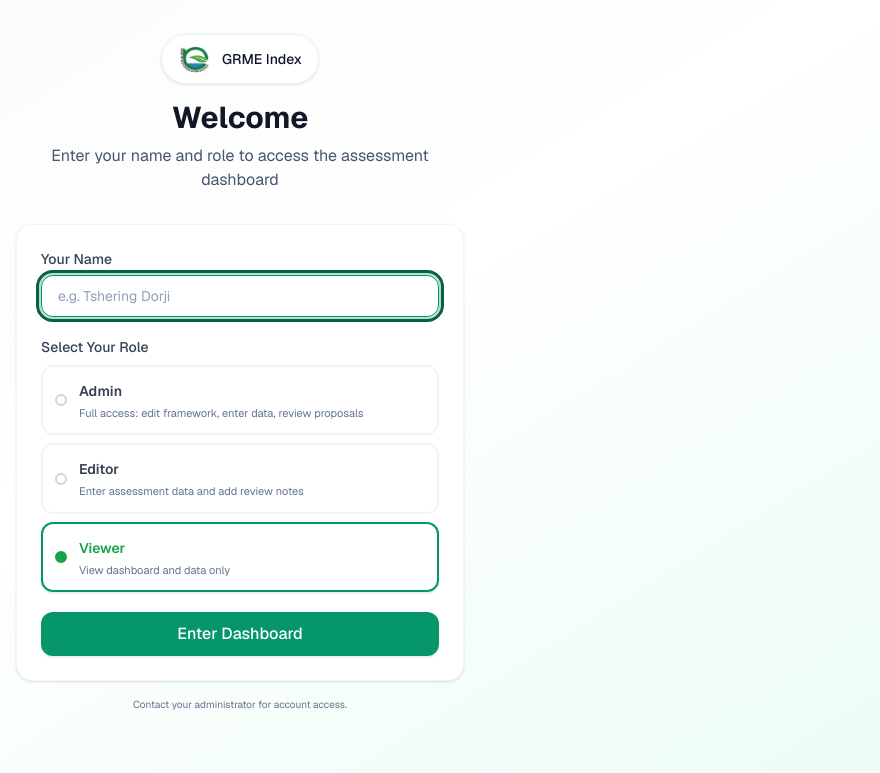
LoginScreen › shows contact-admin error when name is not in managed users
Step 1. Type "Unknown" into the field with placeholder "e.g. Tshering Dorji" → (240, 296), box [41,275,439,317]
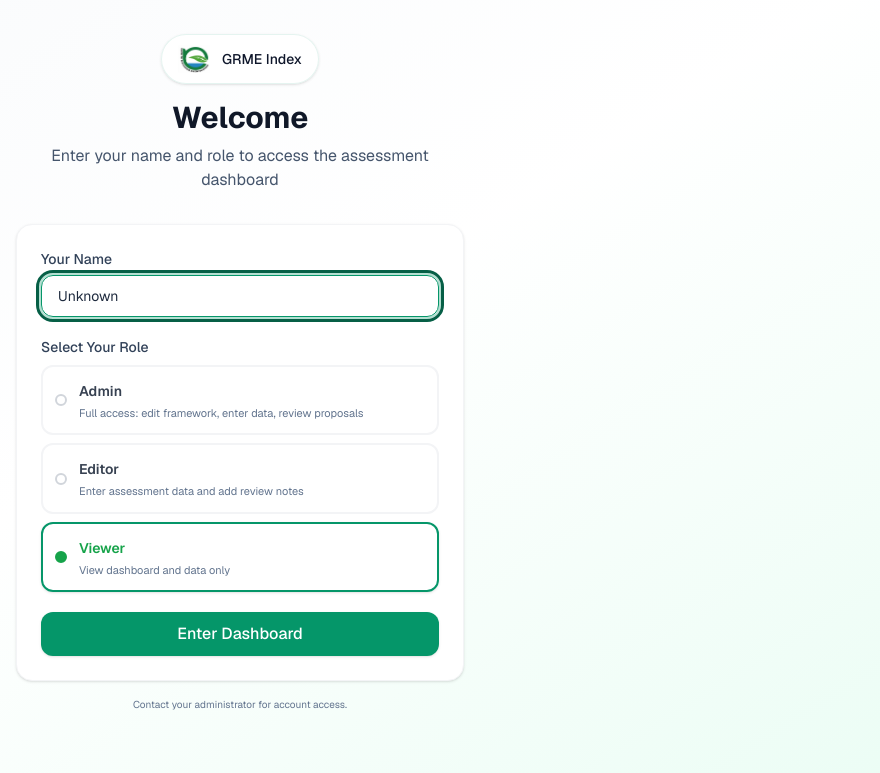
Step 2. Click the button "Enter Dashboard" → click(240, 634), box [41,612,439,656]
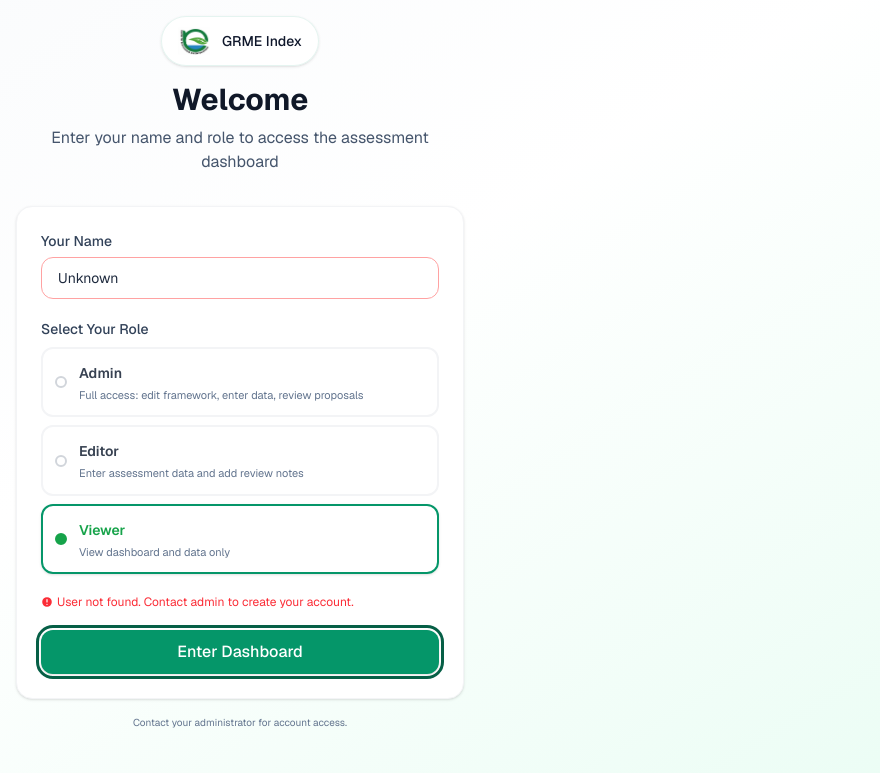
Result: the text "User not found. Contact admin to create your account." is shown at [41,594,354,610]
